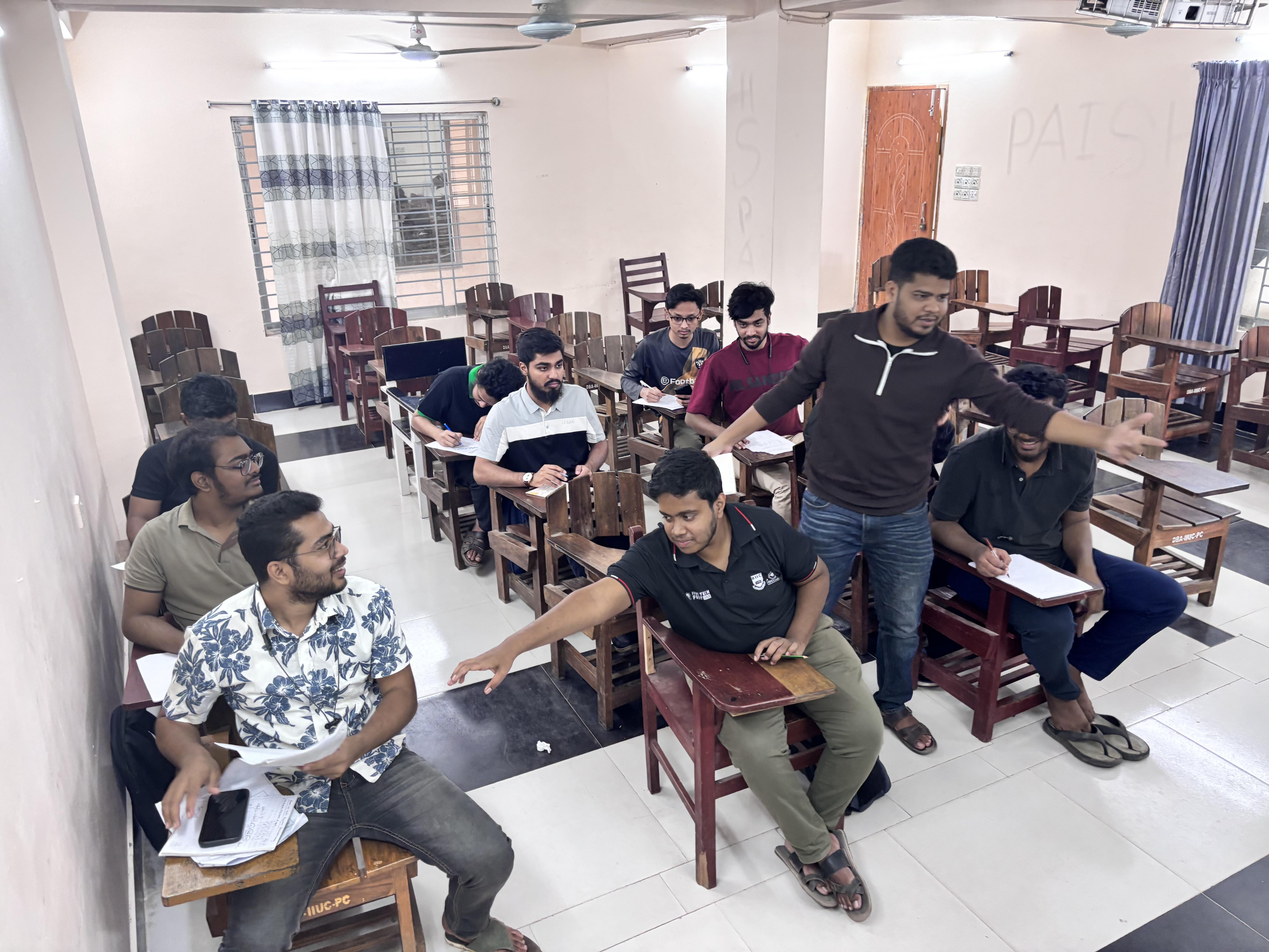exchanging_sheets: (453, 480, 820, 746)
no_cheating: (491, 329, 614, 505), (609, 268, 717, 403), (413, 332, 518, 466)
side_talking: (133, 498, 456, 894)
suspicious_moving: (773, 241, 1115, 618), (966, 359, 1131, 645), (685, 278, 831, 465), (124, 432, 269, 613)
